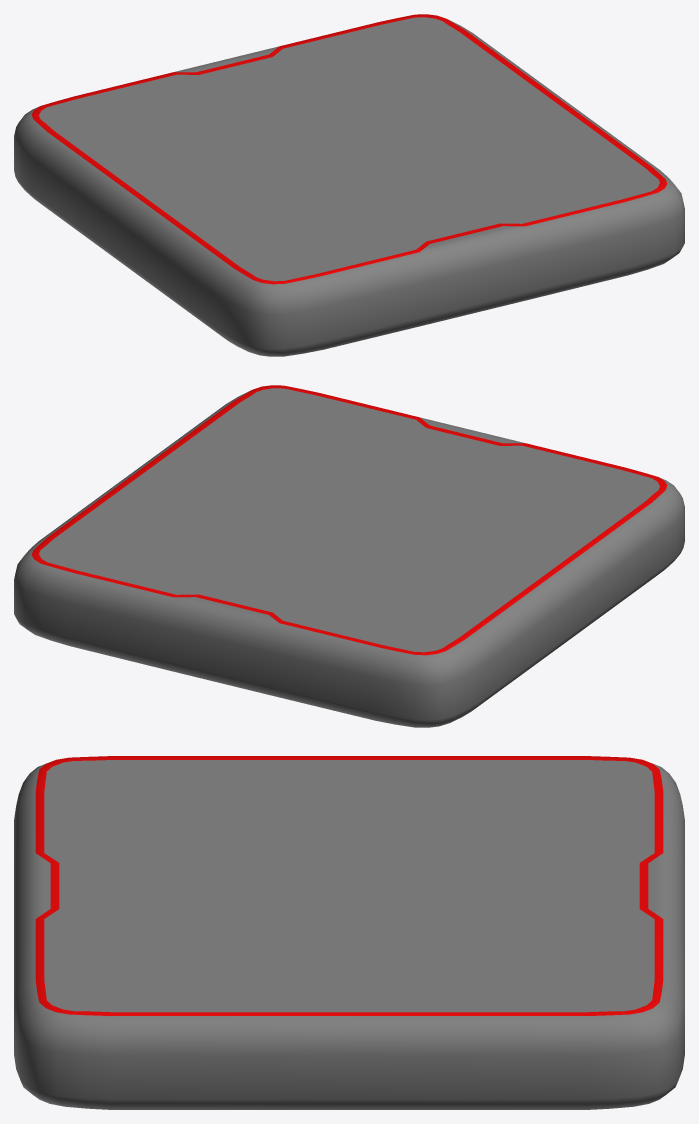
File: speed1Small.fbx
The picture shows the model from 3 angles, top to bottom: view 1: azimuth 30°, elevation 25°; view 2: azimuth 150°, elevation 25°; view 3: azimuth 270°, elevation 25°; orthographic projection. The views are drawn at different scales.
Visible parts, largest first — view 1: speed2Small; view 2: speed2Small; view 3: speed2Small.
Boxes of the visible parts, left/top/right/bottom form: speed2Small: left=14, top=14, right=684, bottom=356; speed2Small: left=14, top=385, right=684, bottom=727; speed2Small: left=14, top=756, right=684, bottom=1109.
Bounding box in the file's own units: 0.9842 × 0.1591 × 0.9979.
